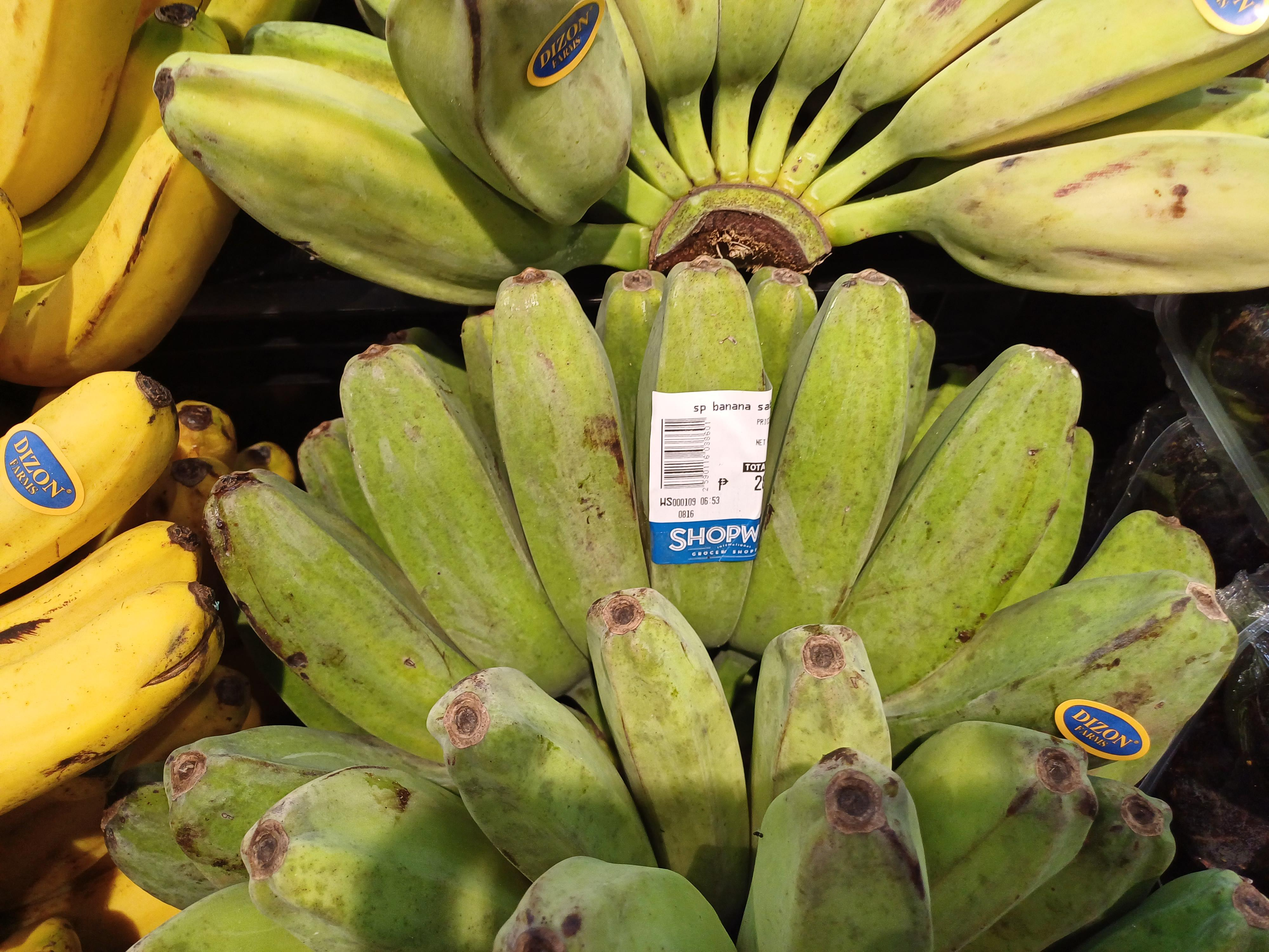underripe: (101, 512, 1269, 952), (203, 255, 1093, 763), (157, 0, 1269, 305)
